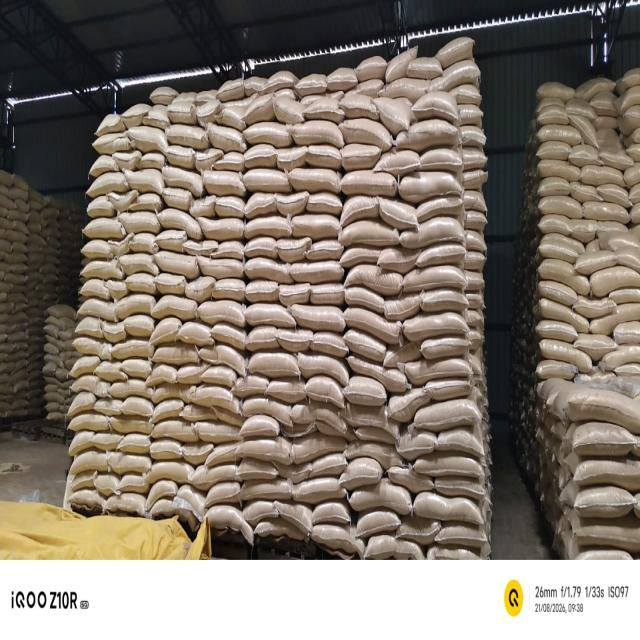Sack-2: (567, 509, 640, 553), (570, 386, 640, 428), (412, 399, 481, 436), (414, 490, 484, 526), (571, 454, 640, 489), (348, 353, 409, 392), (340, 400, 400, 439), (398, 169, 465, 203), (399, 216, 465, 250), (202, 506, 254, 549), (574, 487, 636, 523), (571, 422, 633, 457), (408, 355, 470, 389), (347, 306, 402, 344), (340, 117, 394, 154), (311, 522, 364, 559), (589, 298, 640, 336), (402, 313, 467, 342), (404, 266, 466, 296), (296, 353, 350, 387), (536, 299, 590, 333), (341, 168, 400, 198), (347, 265, 404, 296), (396, 124, 459, 152), (292, 402, 347, 434), (431, 61, 482, 94), (540, 259, 590, 292), (340, 221, 400, 248), (349, 490, 411, 516), (246, 350, 299, 380), (294, 119, 344, 149), (536, 118, 584, 149), (235, 438, 292, 464), (540, 338, 587, 369), (582, 199, 632, 228), (386, 388, 427, 423), (375, 95, 414, 131), (292, 477, 346, 503), (366, 537, 424, 561), (244, 397, 292, 426), (200, 168, 246, 198), (603, 339, 640, 376), (413, 91, 458, 121), (435, 476, 485, 503), (292, 433, 346, 458), (291, 167, 340, 194), (196, 254, 245, 281), (418, 195, 462, 225), (346, 442, 401, 466), (202, 346, 246, 376), (343, 377, 388, 406), (439, 522, 489, 548), (239, 478, 291, 503), (534, 157, 584, 183), (206, 120, 243, 155), (160, 167, 204, 196), (572, 73, 616, 102), (386, 464, 435, 490), (197, 300, 246, 326), (85, 170, 130, 198), (416, 246, 468, 270), (436, 429, 484, 455), (159, 209, 202, 238), (199, 214, 245, 241), (415, 456, 483, 474), (539, 235, 581, 264), (344, 285, 387, 313), (67, 410, 113, 436), (538, 195, 584, 221), (579, 164, 625, 190), (428, 377, 472, 404), (278, 500, 311, 536), (386, 45, 418, 82), (573, 248, 615, 276), (291, 260, 342, 283), (589, 271, 640, 294), (337, 197, 382, 223), (306, 378, 345, 408), (596, 181, 636, 210), (292, 214, 340, 238), (246, 304, 294, 328), (156, 250, 197, 278), (152, 294, 196, 320), (108, 450, 152, 476), (548, 382, 575, 424), (422, 336, 471, 359), (196, 387, 241, 412), (372, 149, 423, 171), (165, 122, 208, 148), (119, 251, 160, 278), (418, 148, 464, 172), (340, 458, 384, 483), (292, 306, 344, 327), (269, 378, 308, 406), (437, 37, 473, 67), (395, 430, 435, 457), (235, 415, 281, 438), (355, 513, 399, 537), (74, 298, 118, 322), (576, 333, 615, 360), (178, 480, 207, 516), (128, 125, 166, 152), (378, 78, 429, 98), (245, 260, 291, 282), (277, 326, 313, 354), (111, 414, 153, 438), (534, 138, 576, 162), (572, 114, 600, 150), (69, 451, 112, 474), (245, 123, 292, 144), (243, 217, 290, 238), (246, 168, 290, 190), (71, 336, 113, 359), (245, 187, 276, 218), (356, 52, 386, 84), (152, 344, 200, 364), (380, 199, 418, 224), (128, 169, 164, 195), (587, 94, 626, 118), (422, 291, 466, 312), (536, 374, 559, 414), (113, 295, 154, 317), (72, 374, 108, 399), (192, 464, 239, 483), (78, 262, 125, 281), (400, 519, 437, 543), (614, 83, 640, 117), (426, 546, 488, 560), (304, 146, 343, 168), (532, 321, 577, 340), (153, 459, 190, 482), (376, 248, 423, 266), (304, 100, 344, 121), (340, 146, 382, 166), (82, 218, 122, 239), (110, 379, 151, 399), (347, 332, 386, 353), (599, 148, 633, 172), (206, 444, 243, 466), (537, 212, 574, 234), (265, 70, 296, 96), (152, 398, 184, 423), (311, 503, 353, 522), (108, 494, 146, 515), (180, 320, 213, 344), (569, 179, 602, 203), (594, 124, 622, 152), (449, 83, 483, 106), (300, 88, 346, 105), (244, 237, 278, 260), (152, 317, 182, 343), (246, 326, 277, 351), (275, 190, 310, 212), (234, 376, 269, 398), (245, 143, 277, 167), (207, 481, 239, 505), (406, 56, 444, 76), (535, 82, 575, 101), (539, 283, 577, 303), (94, 131, 130, 152), (278, 237, 312, 259), (236, 463, 280, 480), (452, 104, 483, 128), (185, 278, 216, 302), (274, 461, 313, 480), (120, 213, 159, 232), (152, 422, 198, 438), (307, 193, 342, 214), (298, 72, 327, 97), (328, 67, 357, 92), (147, 364, 176, 389), (166, 143, 195, 168), (356, 428, 396, 446), (343, 97, 379, 117), (212, 280, 248, 300), (68, 393, 98, 417), (108, 232, 132, 262), (591, 111, 621, 135), (212, 326, 246, 347), (123, 315, 154, 338), (118, 474, 150, 496), (246, 96, 272, 123), (276, 99, 302, 126), (240, 500, 279, 518), (613, 243, 640, 269), (310, 284, 345, 304), (112, 341, 153, 358), (308, 239, 341, 260), (616, 106, 639, 136), (536, 177, 572, 196), (312, 455, 343, 477), (204, 364, 235, 386), (155, 274, 186, 296), (186, 197, 220, 217), (461, 146, 487, 172), (615, 319, 640, 346), (246, 281, 278, 302), (199, 425, 241, 441), (257, 520, 294, 538), (70, 491, 107, 509), (277, 283, 312, 302), (570, 146, 600, 168), (462, 189, 488, 214), (182, 403, 218, 421), (571, 218, 598, 242), (148, 478, 176, 501), (66, 432, 95, 454), (86, 196, 116, 217), (119, 436, 152, 455), (164, 185, 189, 210), (218, 78, 244, 102), (110, 188, 136, 212), (26, 184, 49, 211), (278, 147, 308, 167), (156, 229, 186, 249), (80, 238, 110, 258), (123, 104, 149, 127), (313, 334, 346, 352), (98, 360, 125, 382), (74, 318, 105, 337), (149, 84, 177, 105), (458, 126, 487, 146), (194, 149, 223, 169), (464, 228, 488, 252), (536, 109, 572, 125), (153, 384, 194, 398), (114, 150, 140, 172), (178, 364, 208, 383), (77, 279, 107, 298), (130, 232, 157, 253), (150, 441, 183, 458), (386, 296, 421, 312), (342, 247, 377, 263), (211, 240, 242, 258), (70, 354, 99, 373), (95, 473, 120, 495), (123, 399, 153, 417), (125, 276, 155, 294), (465, 309, 486, 334), (102, 321, 127, 342), (128, 195, 163, 210), (217, 200, 246, 218), (200, 425, 243, 437), (621, 137, 640, 164), (167, 104, 197, 121), (185, 238, 215, 255), (385, 344, 424, 357), (184, 442, 207, 464), (609, 285, 640, 301), (461, 171, 487, 190), (47, 301, 74, 319), (9, 171, 30, 194), (466, 270, 486, 294), (150, 496, 174, 516), (220, 152, 244, 172), (123, 360, 151, 377), (138, 151, 166, 168), (615, 72, 640, 91), (538, 364, 574, 377), (585, 296, 611, 314), (568, 98, 594, 116), (145, 106, 167, 127), (466, 251, 488, 272), (92, 434, 125, 448), (70, 474, 97, 491), (220, 110, 245, 128), (623, 162, 640, 188), (464, 212, 486, 232), (198, 103, 222, 121), (553, 412, 565, 448), (93, 400, 126, 413), (90, 157, 115, 174), (5, 328, 28, 346), (618, 230, 638, 250), (108, 279, 127, 300), (96, 116, 124, 130), (467, 327, 484, 350), (356, 83, 382, 98), (149, 90, 176, 104), (13, 196, 30, 218), (467, 292, 485, 312), (218, 410, 242, 425), (4, 250, 26, 266), (244, 76, 264, 93), (8, 185, 28, 202), (4, 230, 28, 244), (2, 350, 28, 362), (1, 407, 27, 419), (0, 166, 14, 188), (627, 182, 640, 205), (4, 272, 28, 284), (6, 310, 26, 324), (629, 201, 640, 226), (5, 292, 26, 305), (11, 397, 28, 412), (44, 393, 64, 405), (41, 324, 59, 337), (10, 302, 28, 315), (42, 342, 58, 356), (40, 362, 56, 376), (11, 260, 27, 274), (56, 329, 74, 341), (44, 315, 60, 328), (178, 91, 195, 102), (196, 92, 216, 101), (8, 284, 28, 292), (44, 385, 56, 393)
